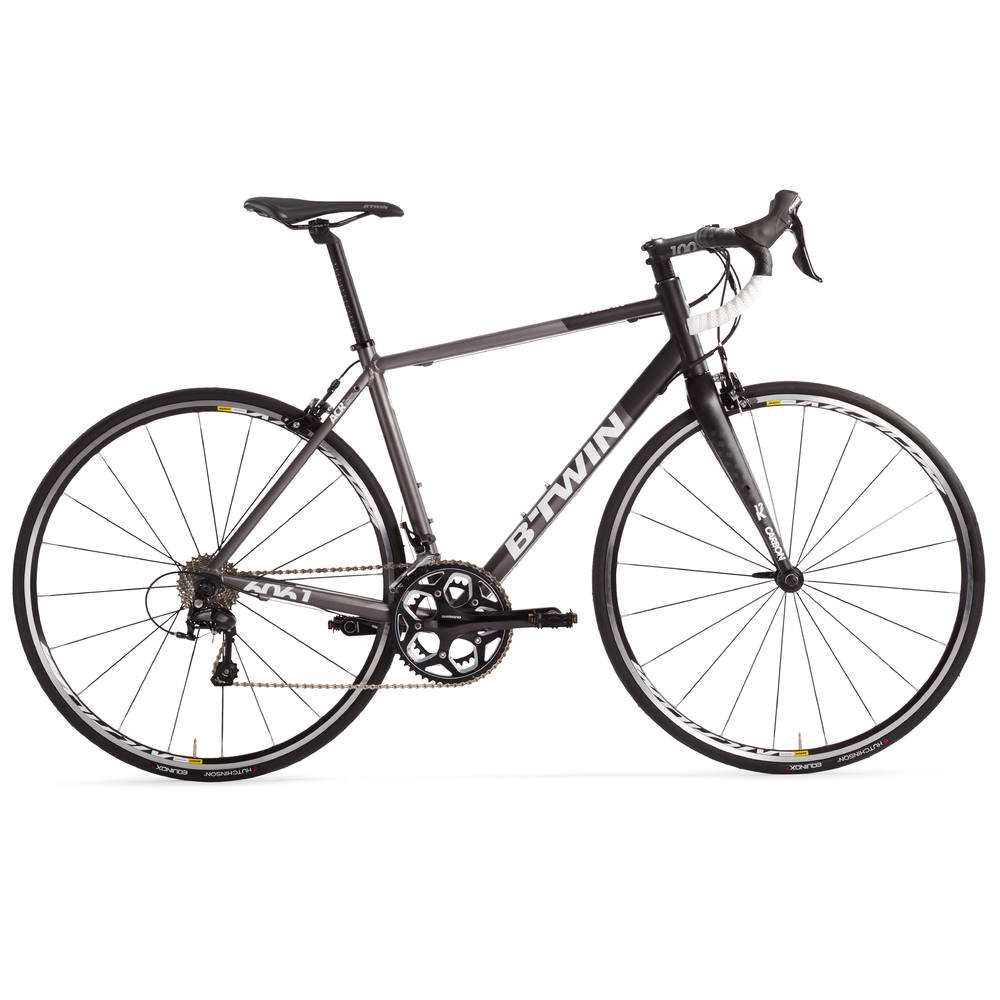RoadBike: (0, 143, 1000, 857), (283, 151, 1000, 837)
